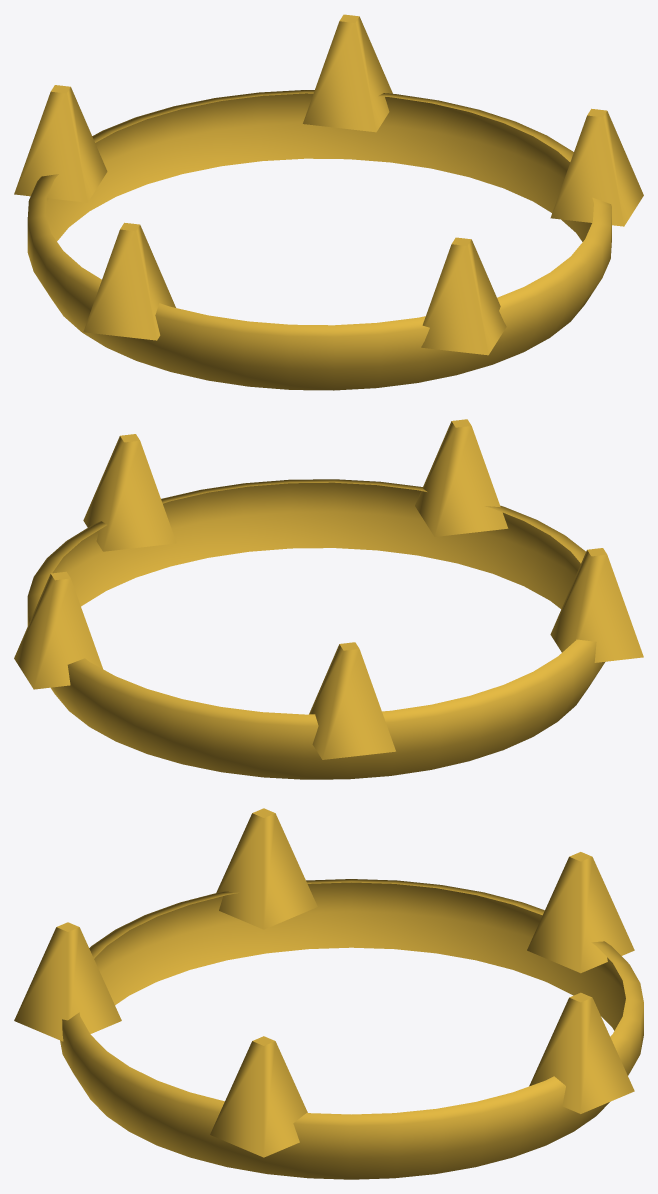
The model's file is prince-crown.glb.
The picture shows the model from 3 angles, top to bottom: view 1: azimuth 30°, elevation 25°; view 2: azimuth 150°, elevation 25°; view 3: azimuth 270°, elevation 25°; orthographic projection.
Parts seen in each view (by area): view 1: prince-crown; view 2: prince-crown; view 3: prince-crown.
Boxes of the visible parts, bbox=[...] form: prince-crown: bbox=[14, 14, 643, 390]; prince-crown: bbox=[14, 419, 643, 779]; prince-crown: bbox=[14, 808, 643, 1179].
Size of the model in its own units: 1.44 by 0.335 by 1.4.
